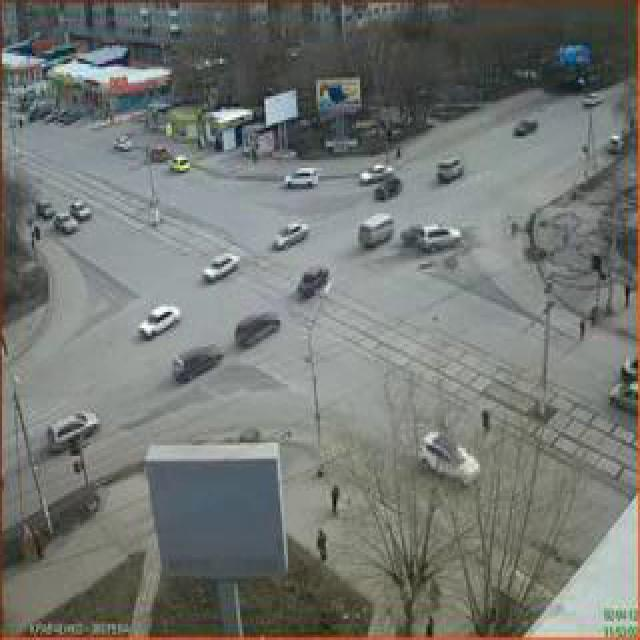road accidents: (350, 89, 453, 274), (438, 292, 464, 347)
